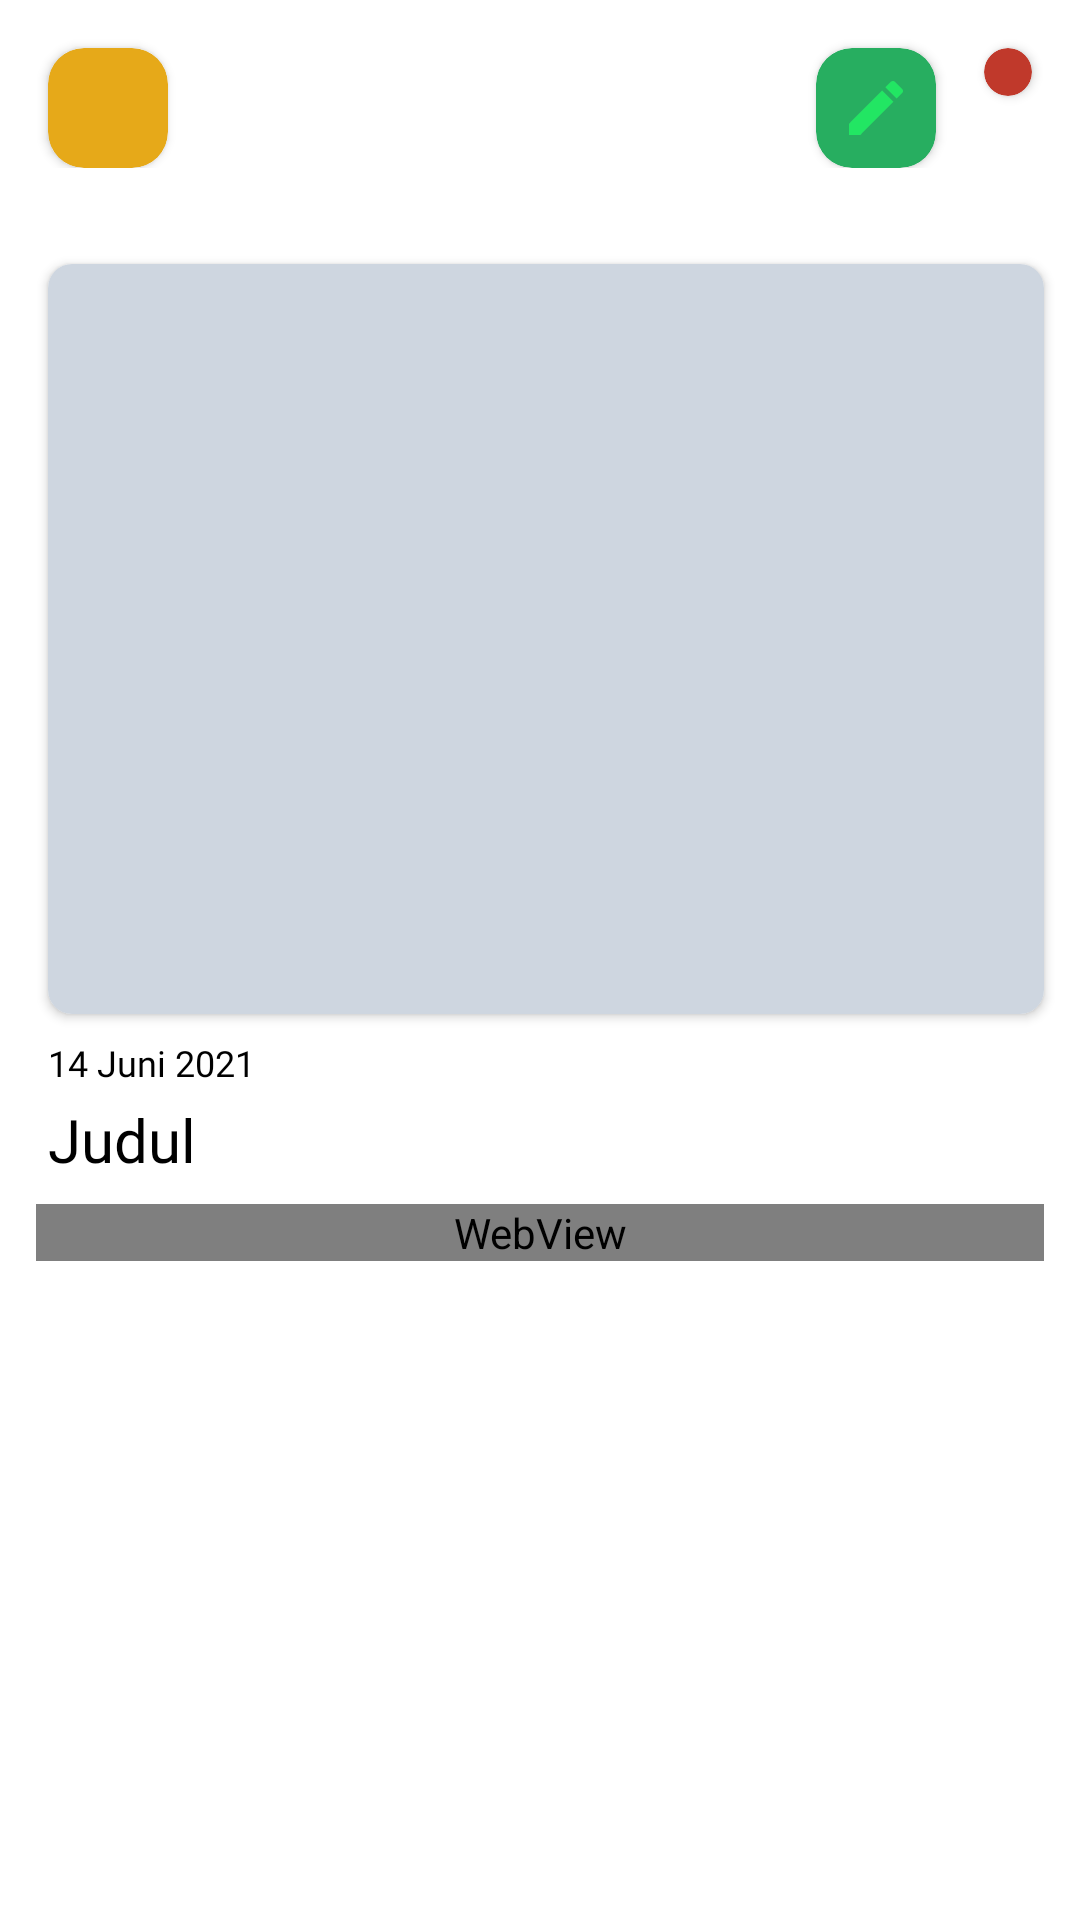

Icons on this 1080×1920 Android screen, each with its box as box=[x1, y1, x2, y2]:
edit: box=[849, 81, 903, 135]
